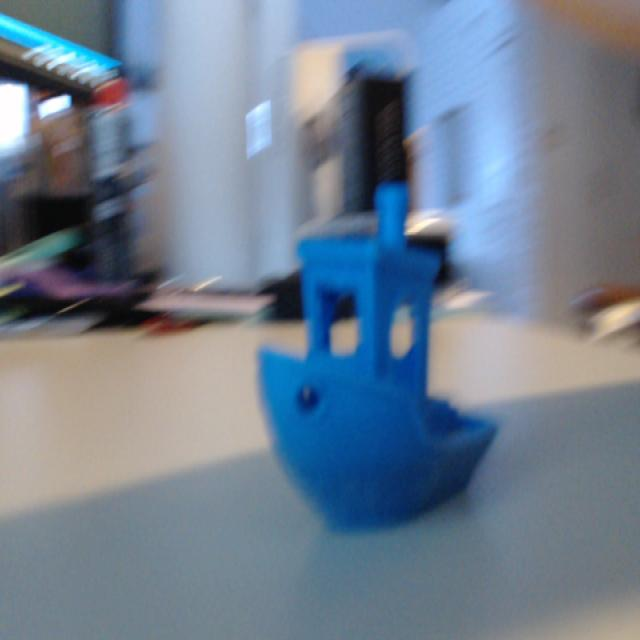benchy: (252, 178, 500, 534)
